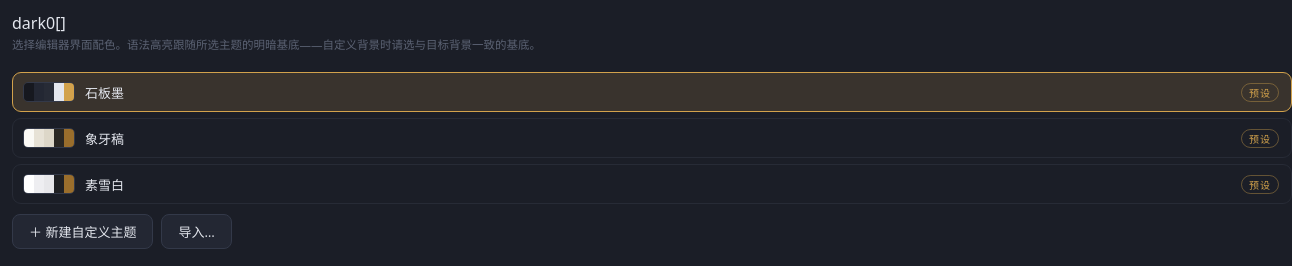
Test: AppearanceSettings › 列出预设（含素雪白）+ 选中预设回调 active
Expected: the radio button labelled "石板墨 预设" is shown, [17,77,1285,107]
Expected: the radio button labelled "素雪白 预设" is shown, [17,169,1285,199]
Click the radio button labelled "象牙稿 预设" at {"x": 49, "y": 138}, box [17,123,1285,153]
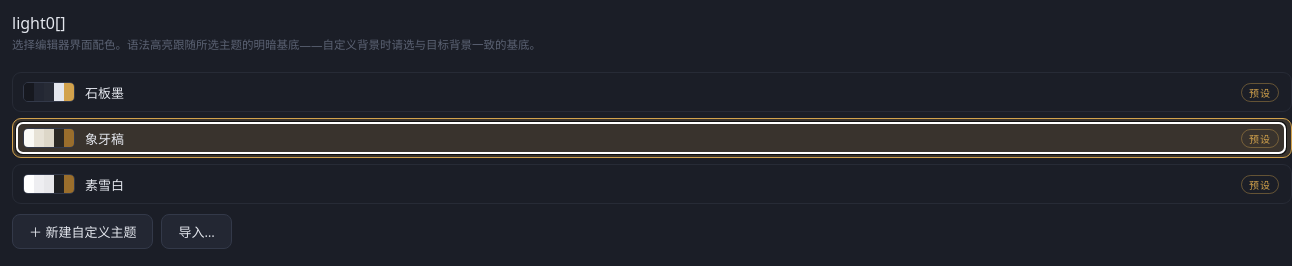
Now the text with test id "active" reads "light", box [12,12,46,34]
